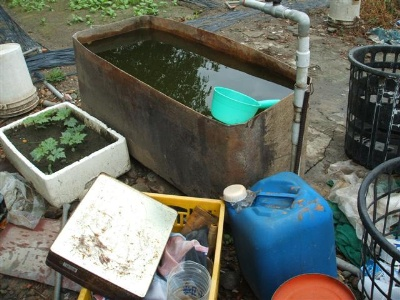bowl: (211, 86, 260, 126)
box: (72, 15, 296, 196), (45, 171, 180, 300)
bucket: (223, 171, 337, 300), (1, 43, 38, 106)
styrofoam: (1, 101, 132, 208)
